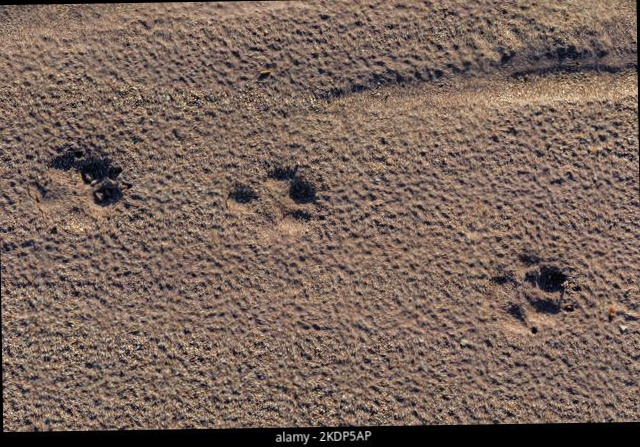coyote: (30, 143, 121, 232), (222, 164, 319, 238)
